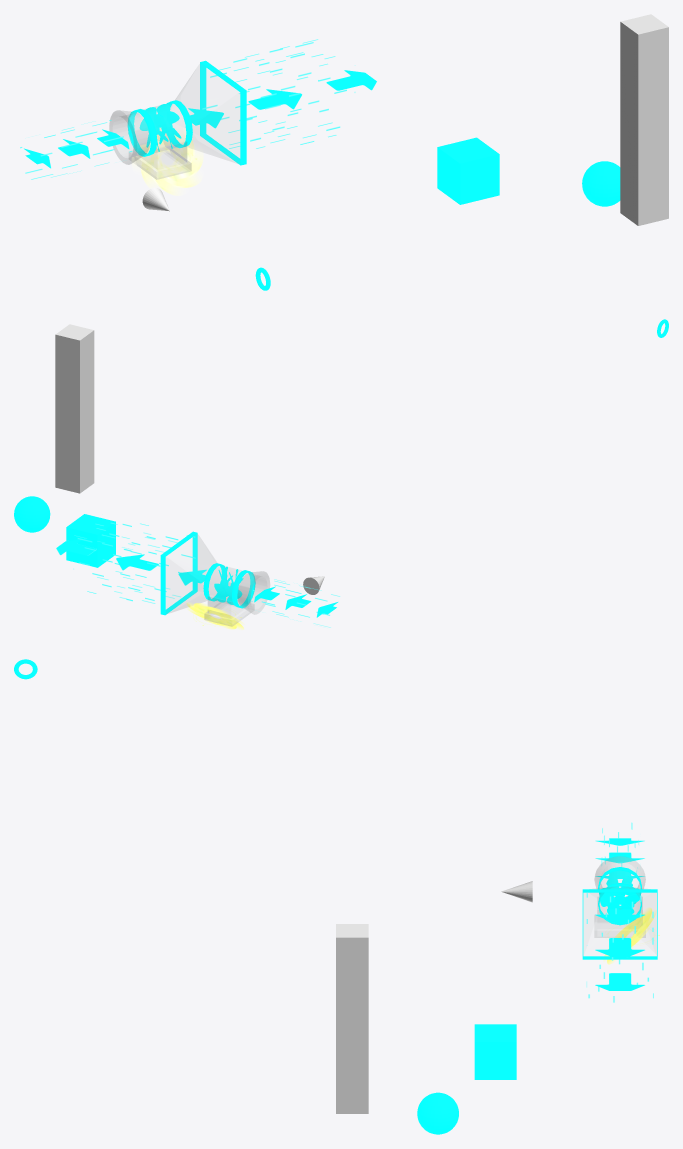
Rendered from ceshi527.gltf.
The picture shows the model from 3 angles, top to bottom: view 1: azimuth 30°, elevation 25°; view 2: azimuth 150°, elevation 25°; view 3: azimuth 270°, elevation 25°; orthographic projection. The views are drawn at different scales.
Parts seen in each view (by area): view 1: Smoke Domain, 立方体, Circle003, 物体.006, Circle001, 球体.003, 物体.003, 物体.007, 物体.008, 物体.005, 物体.001, 物体.009 (+3 smaller); view 2: Smoke Domain, 立方体, 物体.006, 球体.003, 物体.003, Circle001, 物体.008, 物体.007, 物体.005, Circle003, 物体.001, 物体.009; view 3: Smoke Domain, 立方体, 物体.006, 球体.003, 物体.007, 物体.003, 物体.009.
Boxes of the visible parts, <box> form: Smoke Domain: <box>620,14,668,225</box>; 立方体: <box>437,137,499,204</box>; Circle003: <box>132,126,203,195</box>; 物体.006: <box>188,70,376,128</box>; Circle001: <box>109,110,149,164</box>; 球体.003: <box>582,161,620,206</box>; 物体.003: <box>200,60,246,165</box>; 物体.007: <box>129,141,191,179</box>; 物体.008: <box>202,39,355,148</box>; 物体.005: <box>127,100,192,156</box>; 物体.001: <box>175,64,238,163</box>; 物体.009: <box>24,129,129,168</box>; Smoke Domain: <box>55,324,94,493</box>; 立方体: <box>66,514,115,567</box>; 物体.006: <box>56,539,206,585</box>; 球体.003: <box>14,496,50,532</box>; 物体.003: <box>160,531,197,615</box>; Circle001: <box>237,571,269,614</box>; 物体.008: <box>73,514,195,603</box>; 物体.007: <box>204,583,253,626</box>; 物体.005: <box>203,563,255,608</box>; Circle003: <box>186,602,243,629</box>; 物体.001: <box>167,534,216,613</box>; 物体.009: <box>254,586,337,617</box>; Smoke Domain: <box>336,924,368,1113</box>; 立方体: <box>474,1024,516,1079</box>; 物体.006: <box>595,909,644,990</box>; 球体.003: <box>417,1092,458,1134</box>; 物体.007: <box>594,897,645,937</box>; 物体.003: <box>582,889,657,959</box>; 物体.009: <box>595,838,644,878</box>.
Size of the model in its own units: 29.78 by 11.52 by 31.24.
11 materials, 4 textured.
